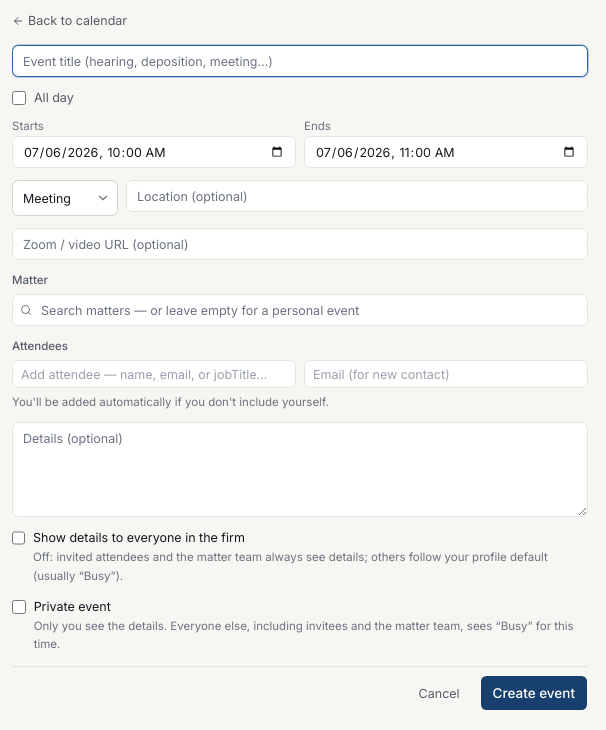
Test: defaults and posted schedule › all-day posts date-only keys; toggling back to timed reseeds 9-10am
Click the checkbox labelled "All day": (19,98) [12,90,26,104]
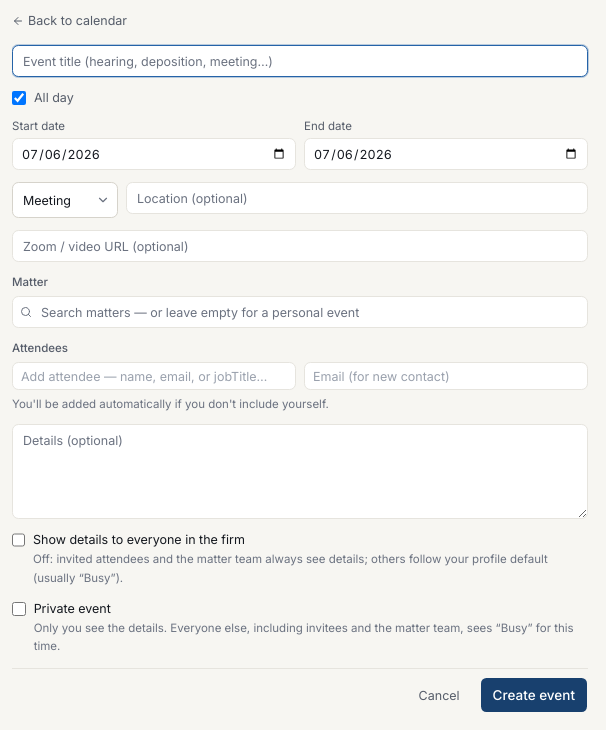
Check: the date field labelled "Start date" holds "2026-07-06", box [12,138,296,170]
In the field with placeholder "Event title (hearing, deposition, meeting…)": (300,61) [12,45,588,77], type "Trial"
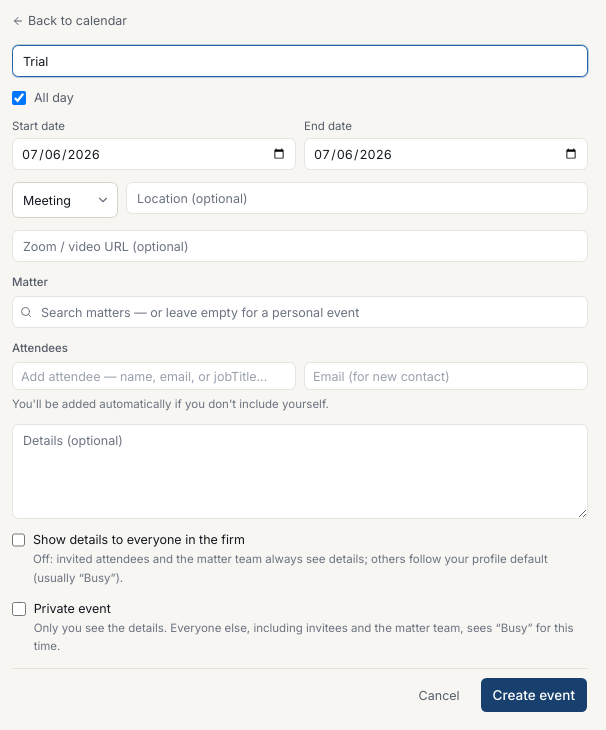
Submit the form named "create event"
In the date field labelled "Start date": (154,154) [12,138,296,170], type "2026-07-08"
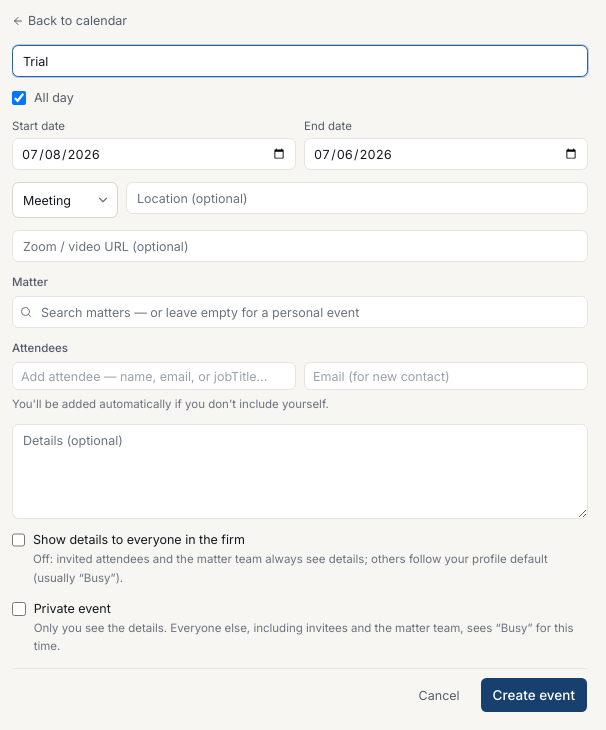
In the date field labelled "End date": (446,154) [304,138,588,170], type "2026-07-08"
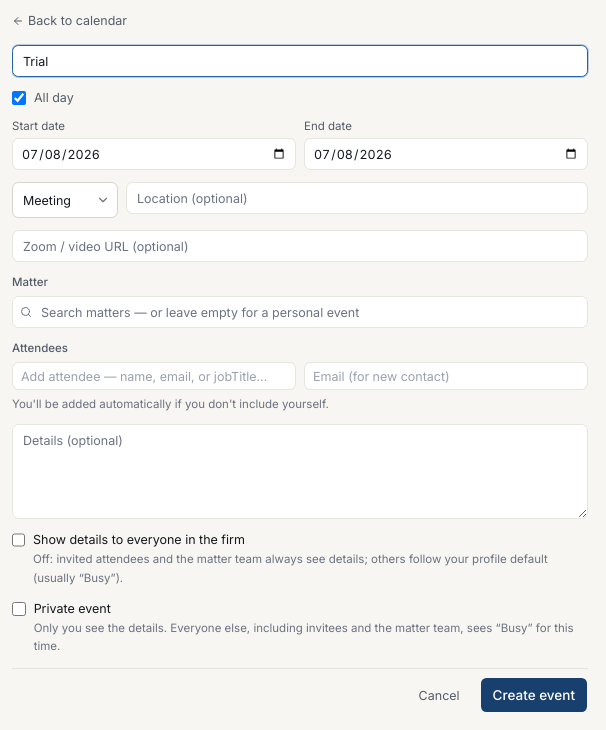
Click the checkbox labelled "All day": (19,98) [12,90,26,104]
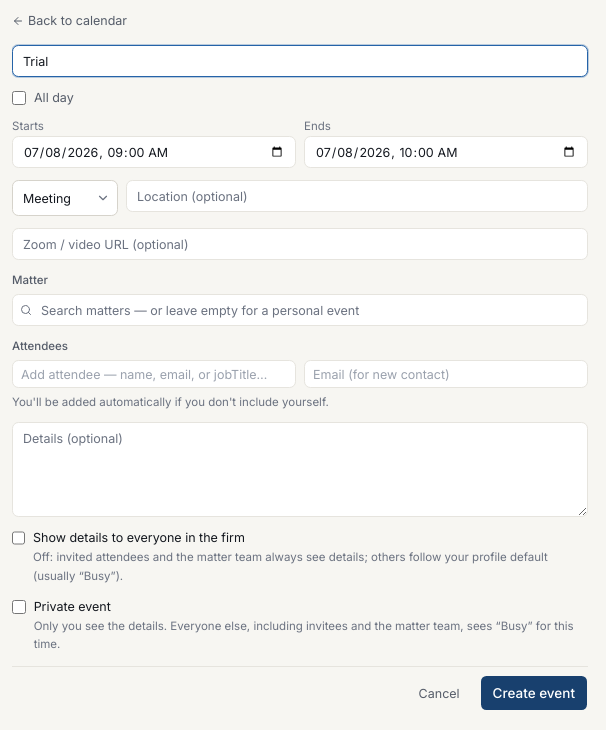
Check: the field named "Starts" holds "2026-07-08T09:00", box [12,136,296,168]
Check: the field named "Ends" holds "2026-07-08T10:00", box [304,136,588,168]
